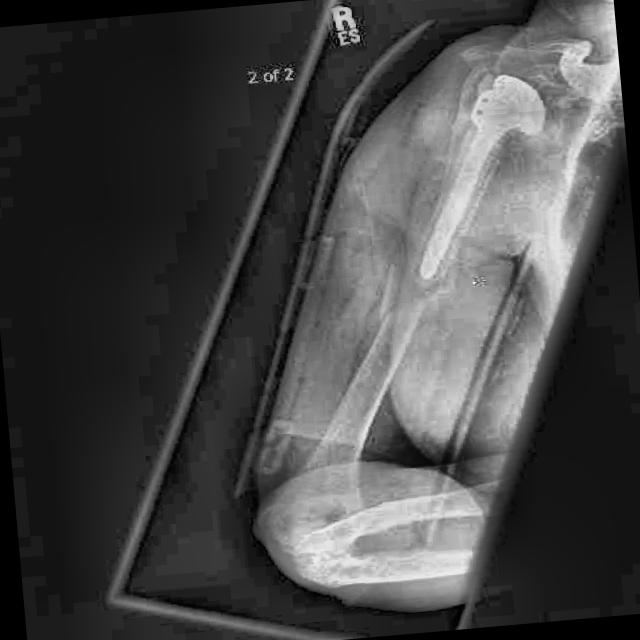humerus: (329, 242, 445, 360)
